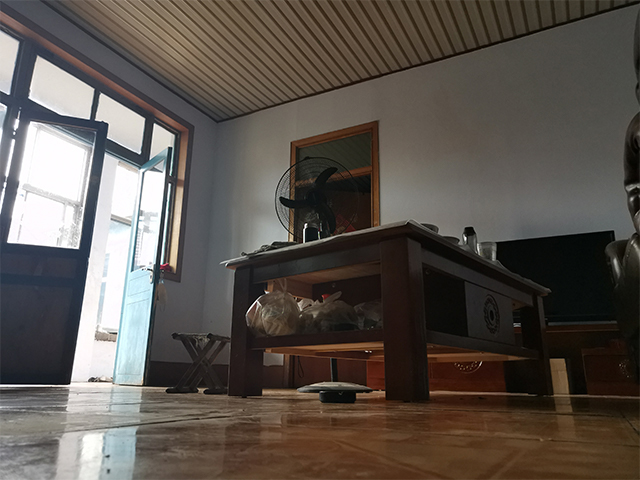cabinet: (363, 322, 640, 398)
stool: (164, 330, 231, 395)
table: (217, 217, 556, 405)
